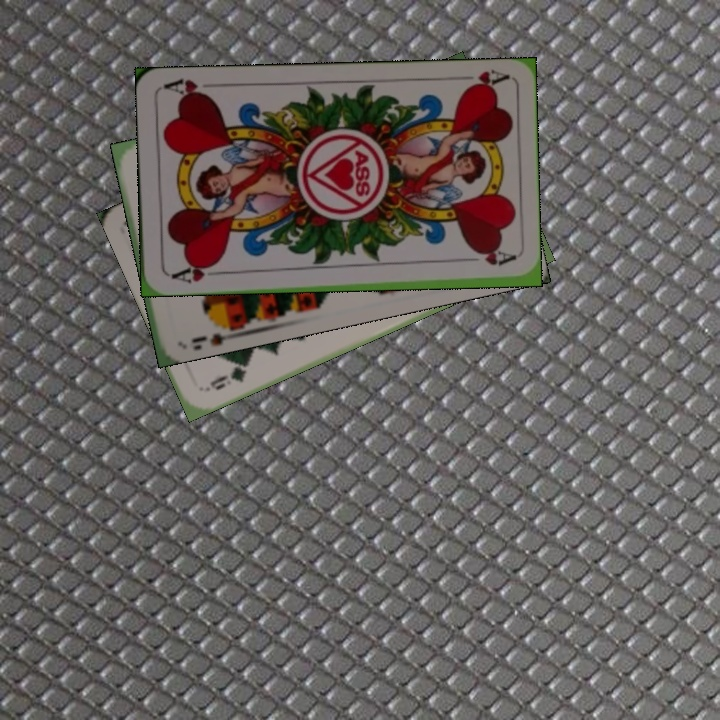G9: (201, 356, 254, 394)
HA: (168, 259, 225, 286), (460, 66, 510, 93)
S9: (187, 316, 238, 347)
